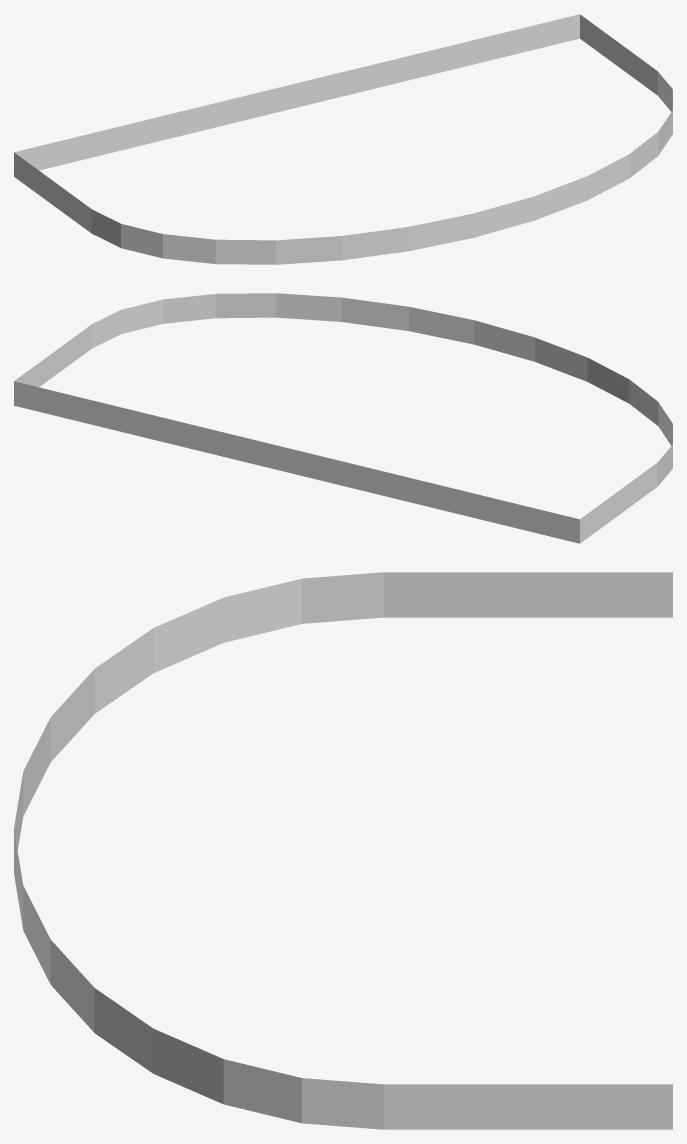
Rendered from tour.glb.
3 renders of one model, top to bottom at view 1: azimuth 30°, elevation 25°; view 2: azimuth 150°, elevation 25°; view 3: azimuth 270°, elevation 25°, orthographic. The views are drawn at different scales.
Visible parts, largest first — view 1: tour_0; view 2: tour_0; view 3: tour_0.
Part boxes in pixels (x1,y1,x2,y2): tour_0: [14, 14, 672, 264]; tour_0: [14, 293, 672, 543]; tour_0: [14, 572, 672, 1129].
Bounding box in the file's own units: 12.6 × 0.52 × 6.85.
Materials: 1 (1 with a texture image).
